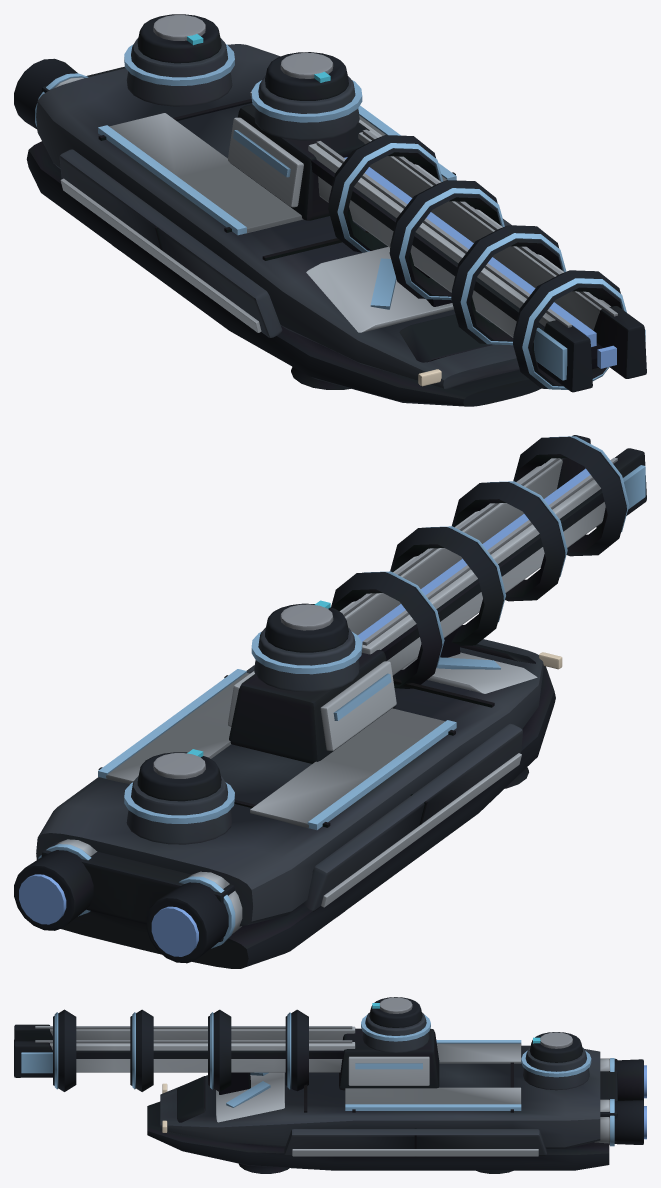
File: ex_lancer_2.glb
3 views of the same model, one above another, from view 1: azimuth 30°, elevation 25°; view 2: azimuth 150°, elevation 25°; view 3: azimuth 270°, elevation 25° (orthographic). The views are drawn at different scales.
Parts seen in each view (by area): view 1: body; view 2: body; view 3: body.
Part boxes in pixels (left/top/right/bottom): body: left=14, top=14, right=646, bottom=406; body: left=14, top=435, right=646, bottom=968; body: left=14, top=997, right=646, bottom=1173.
Bounding box in the file's own units: 3.14 × 2.41 × 10.08.
